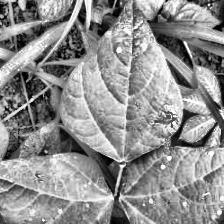Bean Rust: (62, 0, 183, 159), (122, 142, 224, 224), (0, 158, 114, 224)
